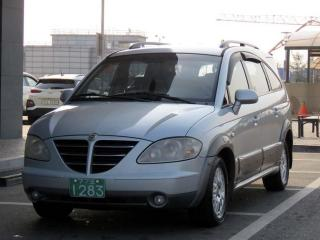1: (72, 184, 78, 196)
2: (78, 185, 87, 197)
3: (95, 185, 104, 197)
7: (77, 178, 83, 184), (84, 179, 89, 185)
8: (87, 185, 96, 197)
plate: (65, 172, 110, 204)
모: (89, 177, 96, 186)
